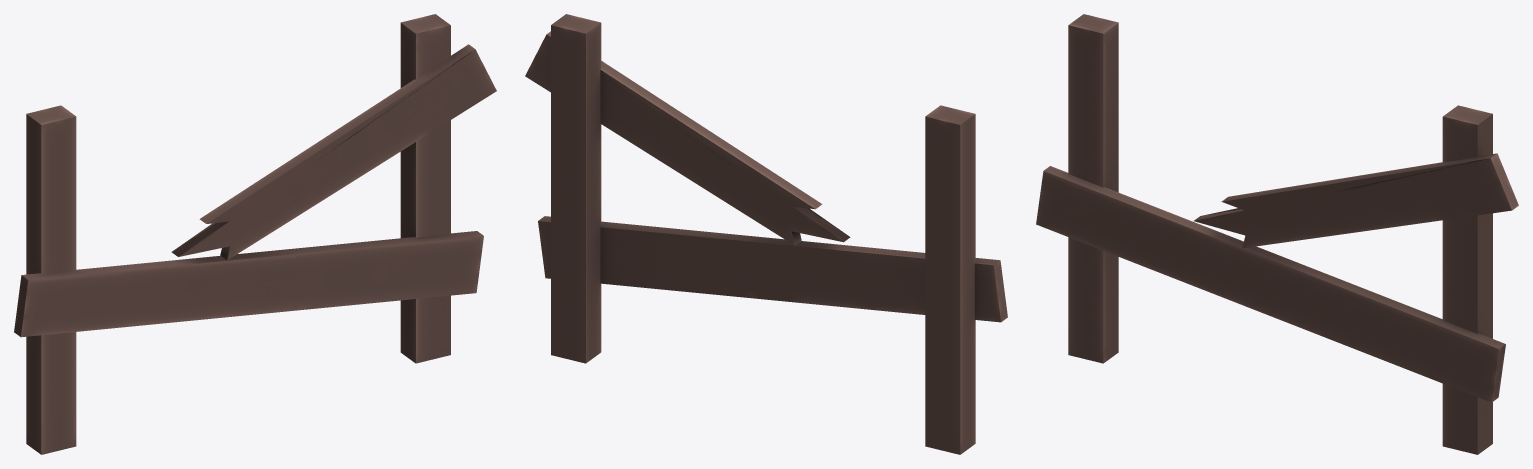
The model's file is Fence_13.fbx.
3 renders of one model, left to right at view 1: azimuth 30°, elevation 25°; view 2: azimuth 150°, elevation 25°; view 3: azimuth 330°, elevation 25°, orthographic.
Parts seen in each view (by area): view 1: Fence_13; view 2: Fence_13; view 3: Fence_13.
Boxes of the visible parts, bbox=[...] form: Fence_13: bbox=[14, 14, 496, 454]; Fence_13: bbox=[525, 14, 1007, 454]; Fence_13: bbox=[1036, 14, 1518, 454].
Size of the model in its own units: 61.89 by 40.98 by 4.78.
